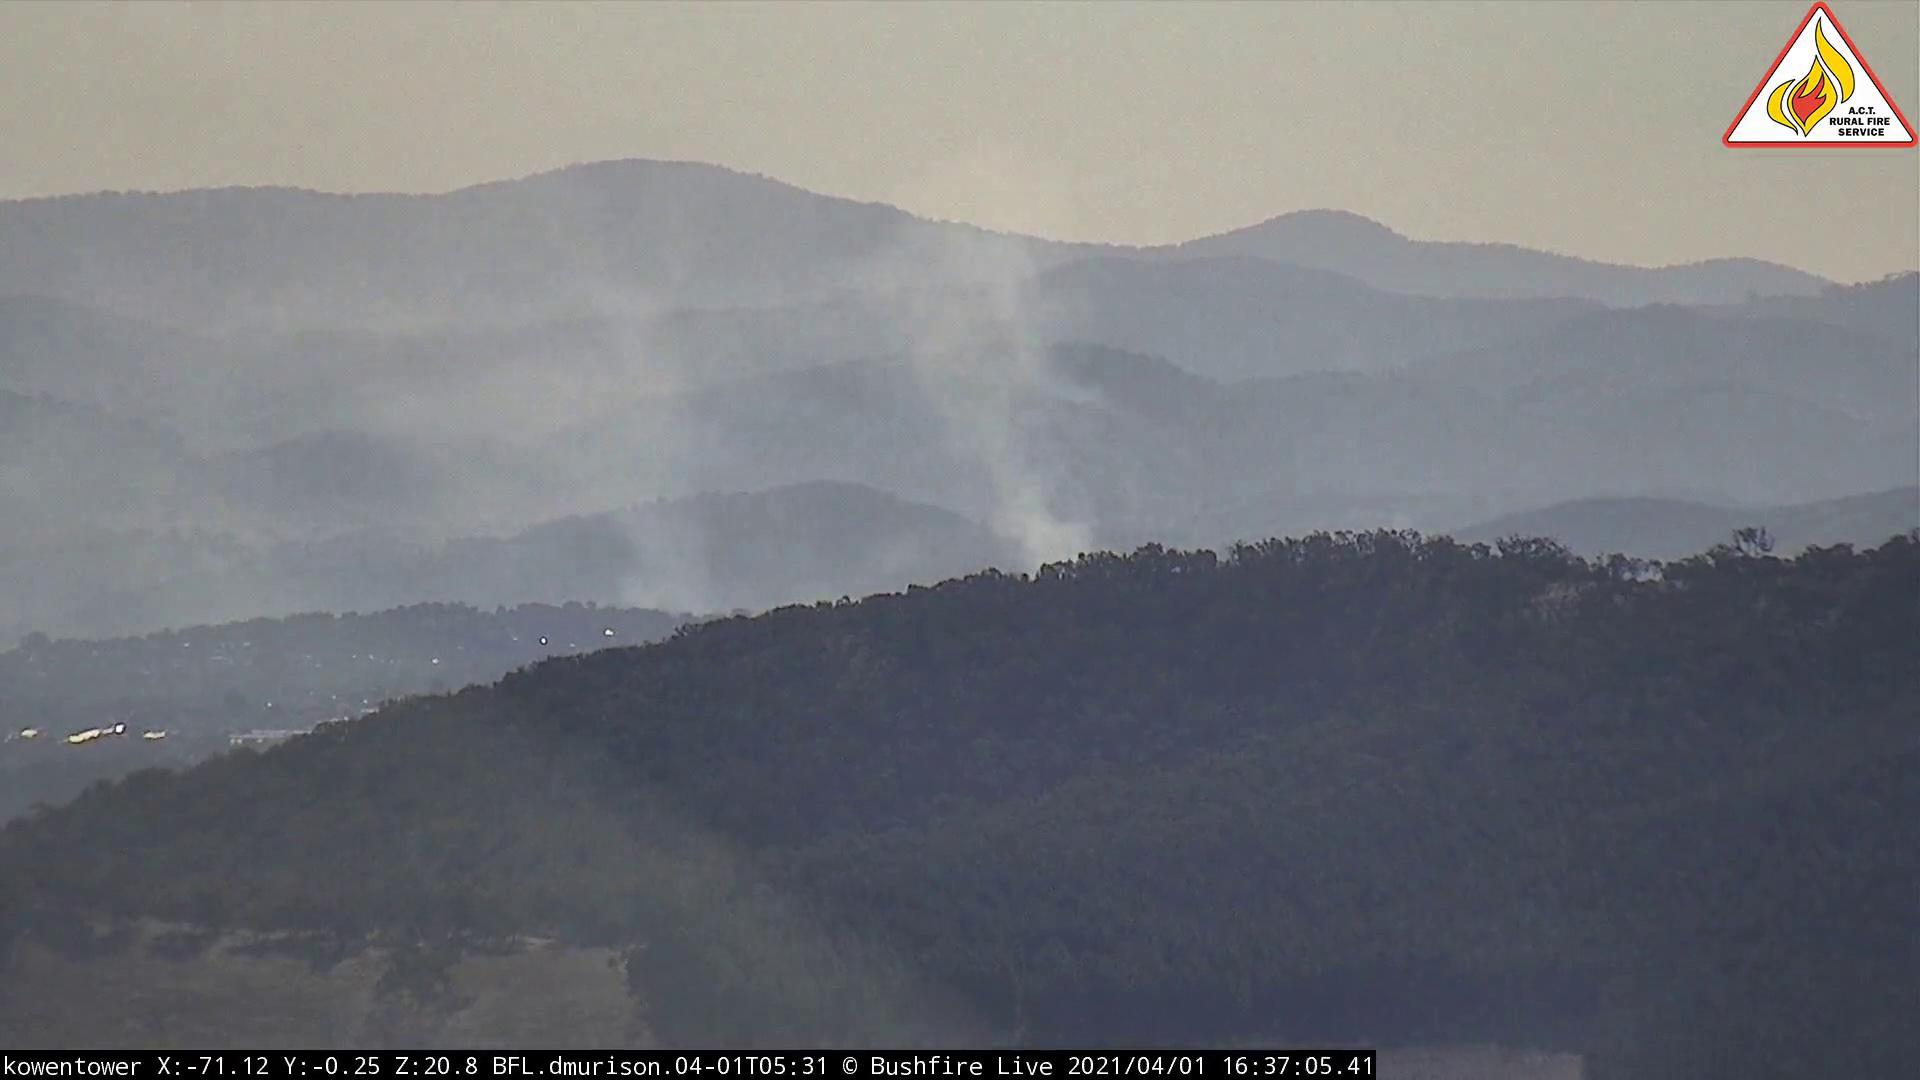Smoke: (323, 109, 1153, 679)
